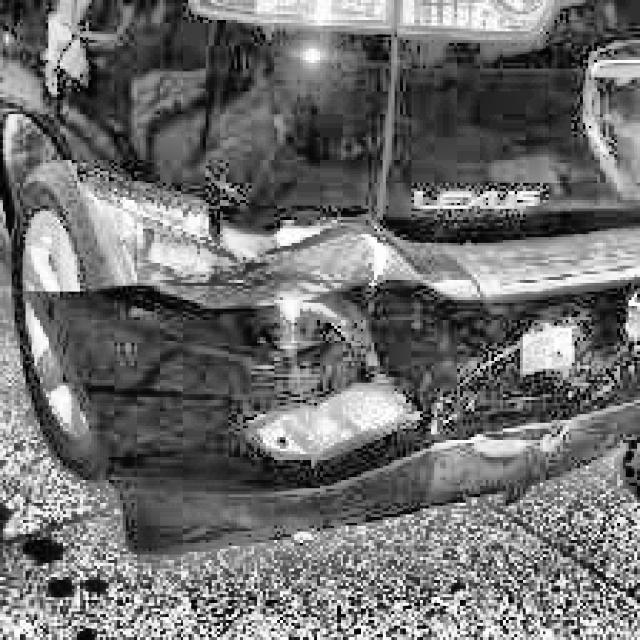bumper_dent: (108, 203, 437, 476)
